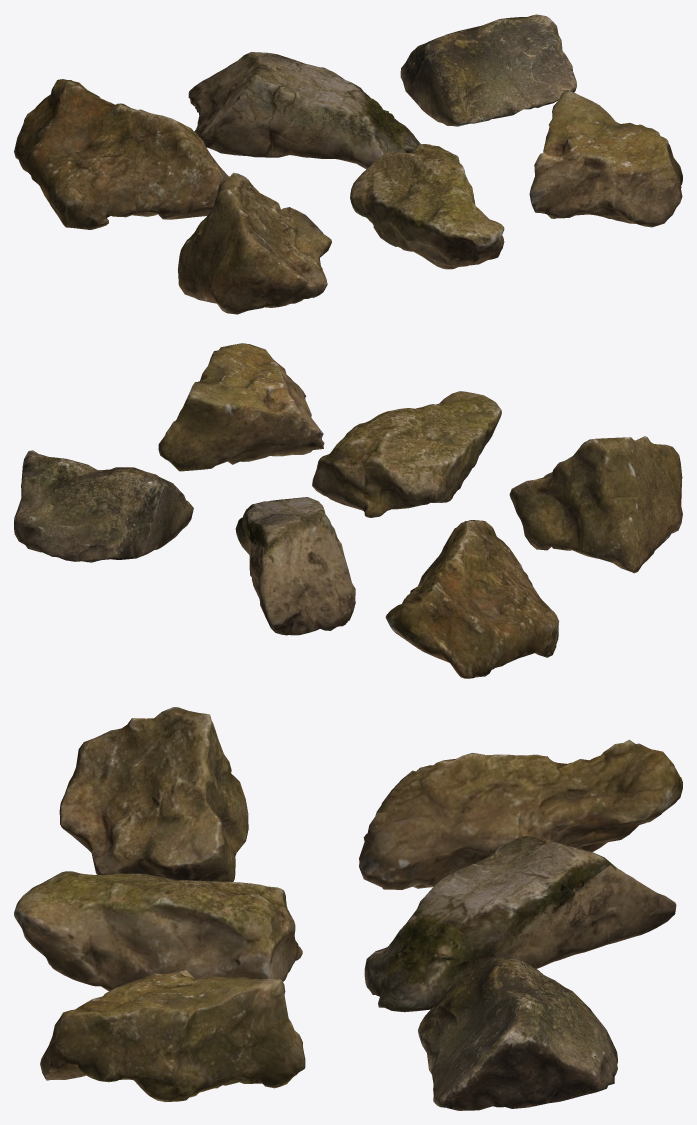
File: rocks.glb
The picture shows the model from 3 angles, top to bottom: view 1: azimuth 30°, elevation 25°; view 2: azimuth 150°, elevation 25°; view 3: azimuth 270°, elevation 25°; orthographic projection. The views are drawn at different scales.
Parts seen in each view (by area): view 1: rock_moss_set_01_rock01, rock_moss_set_01_rock02, rock_moss_set_01_rock06, rock_moss_set_01_rock04, rock_moss_set_01_rock03, rock_moss_set_01_rock05; view 2: rock_moss_set_01_rock04, rock_moss_set_01_rock01, rock_moss_set_01_rock05, rock_moss_set_01_rock03, rock_moss_set_01_rock06, rock_moss_set_01_rock02; view 3: rock_moss_set_01_rock01, rock_moss_set_01_rock02, rock_moss_set_01_rock05, rock_moss_set_01_rock04, rock_moss_set_01_rock06, rock_moss_set_01_rock03.
Part boxes in pixels (x1,y1,x2,y2): rock_moss_set_01_rock01: (14, 79, 228, 229); rock_moss_set_01_rock02: (188, 52, 420, 169); rock_moss_set_01_rock06: (529, 90, 682, 227); rock_moss_set_01_rock04: (178, 172, 331, 314); rock_moss_set_01_rock03: (400, 14, 576, 126); rock_moss_set_01_rock05: (350, 144, 504, 269); rock_moss_set_01_rock04: (509, 436, 682, 573); rock_moss_set_01_rock01: (385, 520, 559, 678); rock_moss_set_01_rock05: (312, 391, 501, 517); rock_moss_set_01_rock03: (14, 450, 193, 562); rock_moss_set_01_rock06: (158, 343, 324, 471); rock_moss_set_01_rock02: (235, 497, 355, 635); rock_moss_set_01_rock01: (359, 739, 682, 889); rock_moss_set_01_rock02: (364, 836, 676, 1012); rock_moss_set_01_rock05: (14, 871, 302, 991); rock_moss_set_01_rock04: (59, 707, 248, 881); rock_moss_set_01_rock06: (40, 970, 305, 1102); rock_moss_set_01_rock03: (418, 956, 617, 1110).
Size of the model in its own units: 8 by 1.76 by 6.94.
Materials: 1 (1 with a texture image).
